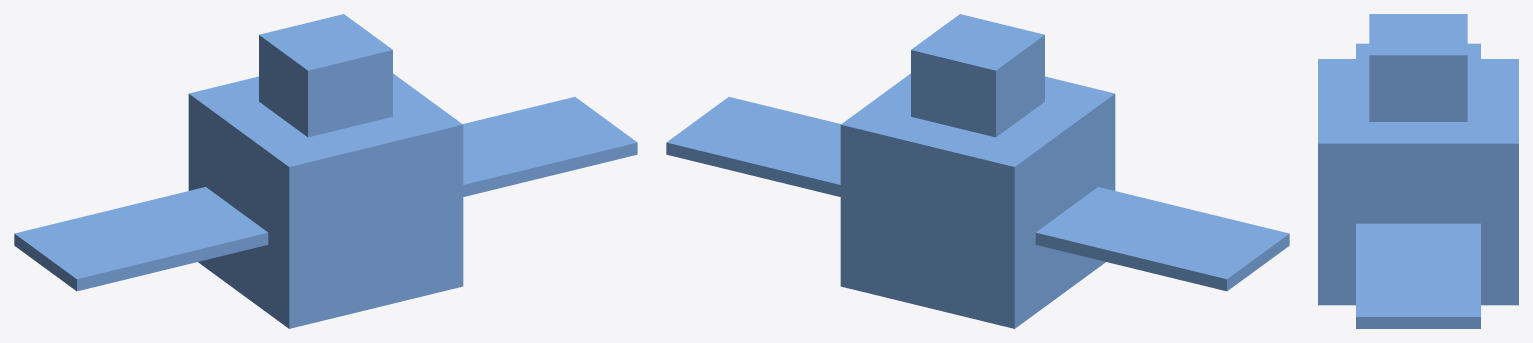
File: neptune.glb
The picture shows the model from 3 angles, left to right: view 1: azimuth 30°, elevation 25°; view 2: azimuth 150°, elevation 25°; view 3: azimuth 270°, elevation 25°; orthographic projection.
Parts seen in each view (by area): view 1: neptune-node; view 2: neptune-node; view 3: neptune-node.
Boxes of the visible parts, x1,y1,x2,y2 form: neptune-node: (14, 14, 637, 328); neptune-node: (666, 14, 1289, 328); neptune-node: (1318, 14, 1518, 328).
Size of the model in its own units: 2.9 by 1.13 by 0.9.
